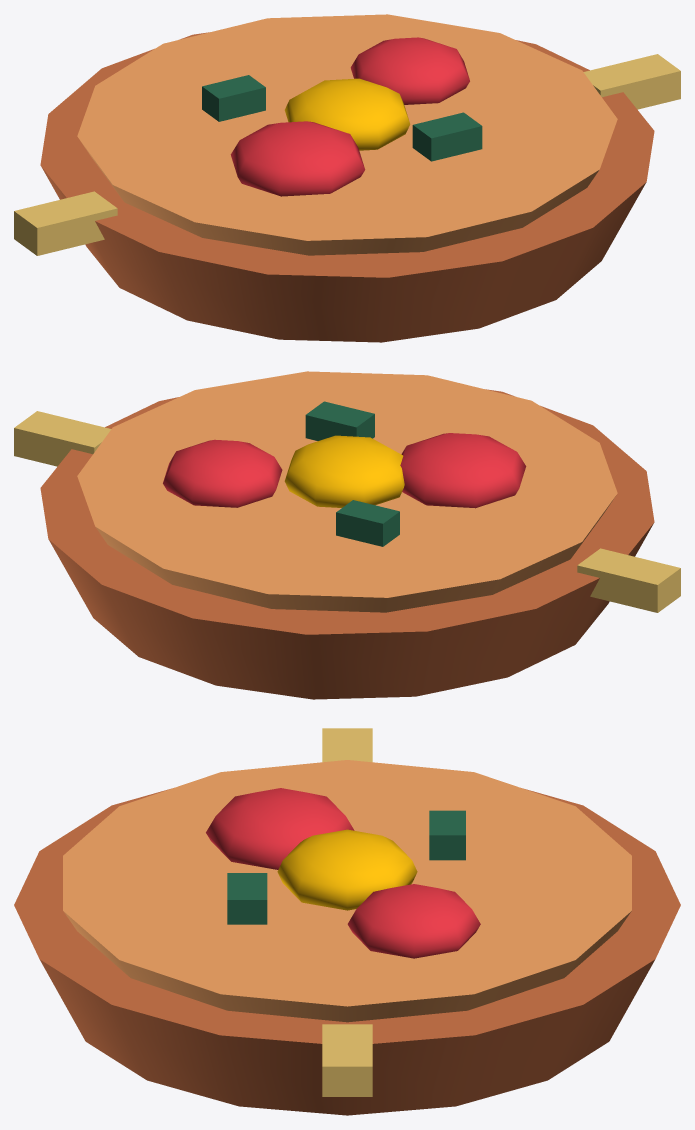
Rendered from dish_menemen.glb.
3 views of the same model, one above another, from view 1: azimuth 30°, elevation 25°; view 2: azimuth 150°, elevation 25°; view 3: azimuth 270°, elevation 25° (orthographic). The views are drawn at different scales.
Visible parts, largest first — view 1: DishNode_menemen; view 2: DishNode_menemen; view 3: DishNode_menemen.
Boxes of the visible parts, x1,y1,x2,y2 form: DishNode_menemen: (14,14,680,342); DishNode_menemen: (14,371,680,699); DishNode_menemen: (14,728,680,1115).
Bounding box in the file's own units: 0.48 × 0.102 × 0.4.
